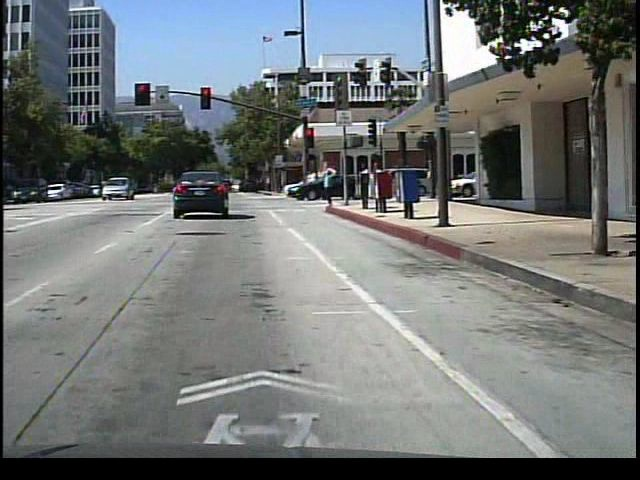person: (318, 153, 342, 212), (369, 156, 388, 204), (358, 158, 376, 201)
